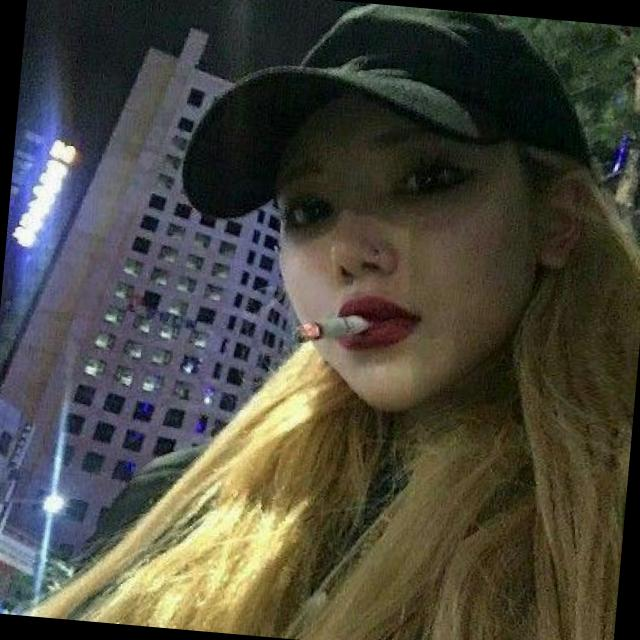smoke: (283, 284, 392, 368)
